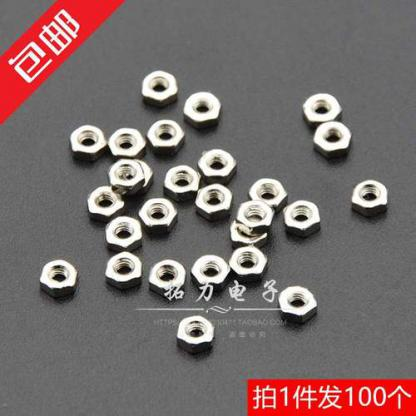FOD: (276, 282, 320, 322), (175, 313, 216, 354), (37, 258, 78, 299), (102, 251, 143, 292), (190, 252, 231, 293), (312, 119, 352, 161), (192, 182, 233, 222), (183, 89, 223, 128), (137, 196, 181, 231), (350, 178, 390, 216), (140, 69, 179, 107), (229, 245, 268, 283), (67, 122, 104, 161), (301, 91, 341, 127), (102, 214, 143, 249), (282, 200, 320, 237), (236, 198, 273, 236), (249, 173, 289, 208), (146, 258, 186, 292), (110, 121, 145, 159), (147, 119, 186, 153), (195, 148, 239, 178), (88, 183, 122, 221), (163, 163, 199, 198), (106, 159, 144, 190), (226, 217, 266, 246)
